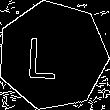L_N: (36, 30, 70, 82)
